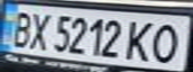1: (84, 15, 106, 56)
2: (100, 16, 127, 60), (66, 13, 87, 55)
5: (48, 11, 72, 54)
B: (3, 8, 36, 48)
K: (121, 17, 157, 62)
O: (145, 19, 190, 65)
X: (24, 9, 54, 52)
